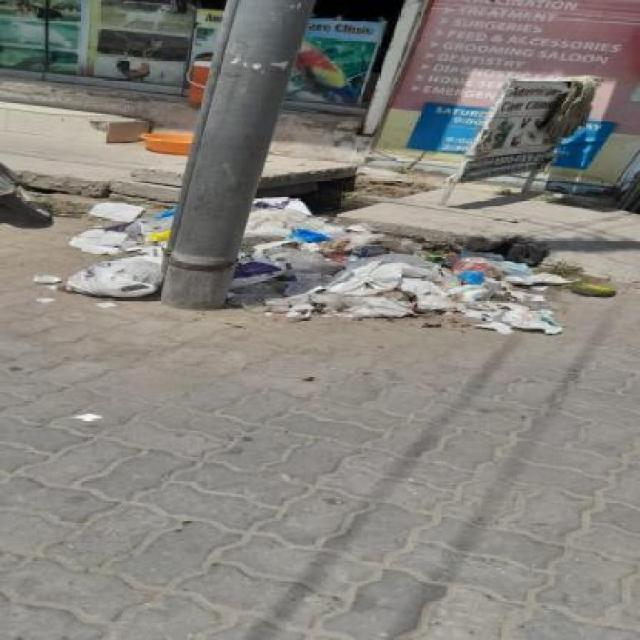garbage: (26, 170, 639, 366), (537, 68, 621, 150)
